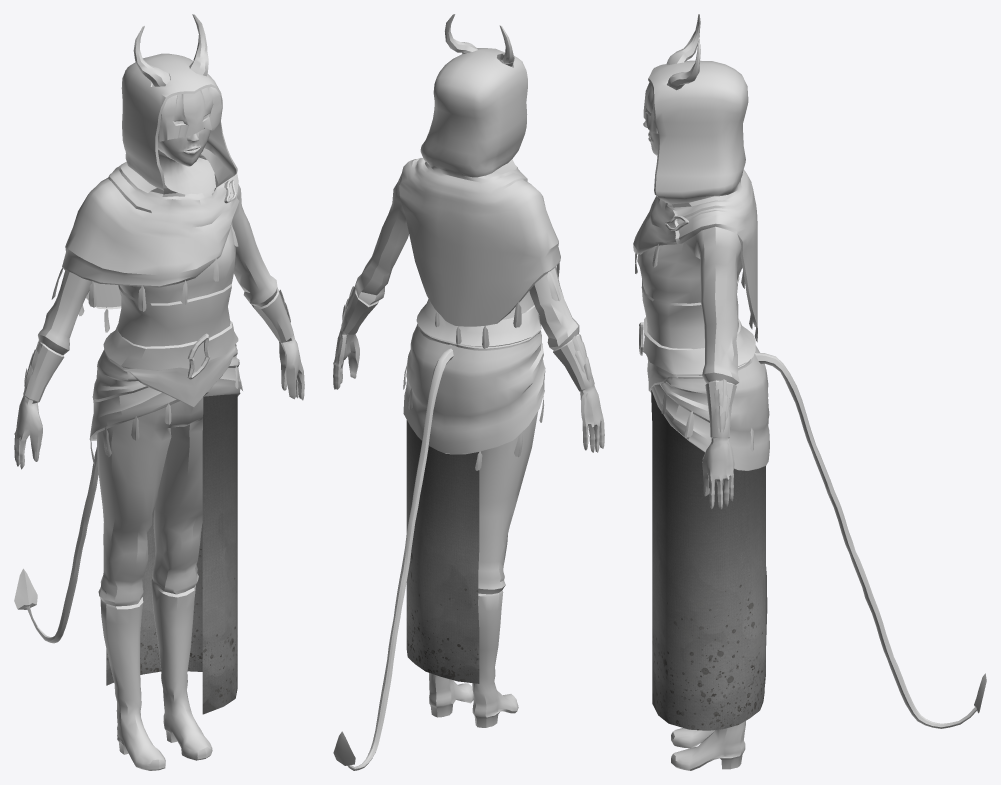
Rendered from warlock_fin.fbx.
3 views of the same model, side by side, from view 1: azimuth 30°, elevation 25°; view 2: azimuth 150°, elevation 25°; view 3: azimuth 270°, elevation 25° (orthographic). The views are drawn at different scales.
Parts seen in each view (by area): view 1: Cube; view 2: Cube; view 3: Cube.
Part boxes in pixels (<box>): Cube: <box>14,14,304,770</box>; Cube: <box>333,14,604,770</box>; Cube: <box>633,14,986,770</box>.
Bounding box in the file's own units: 167 × 411 × 181.
